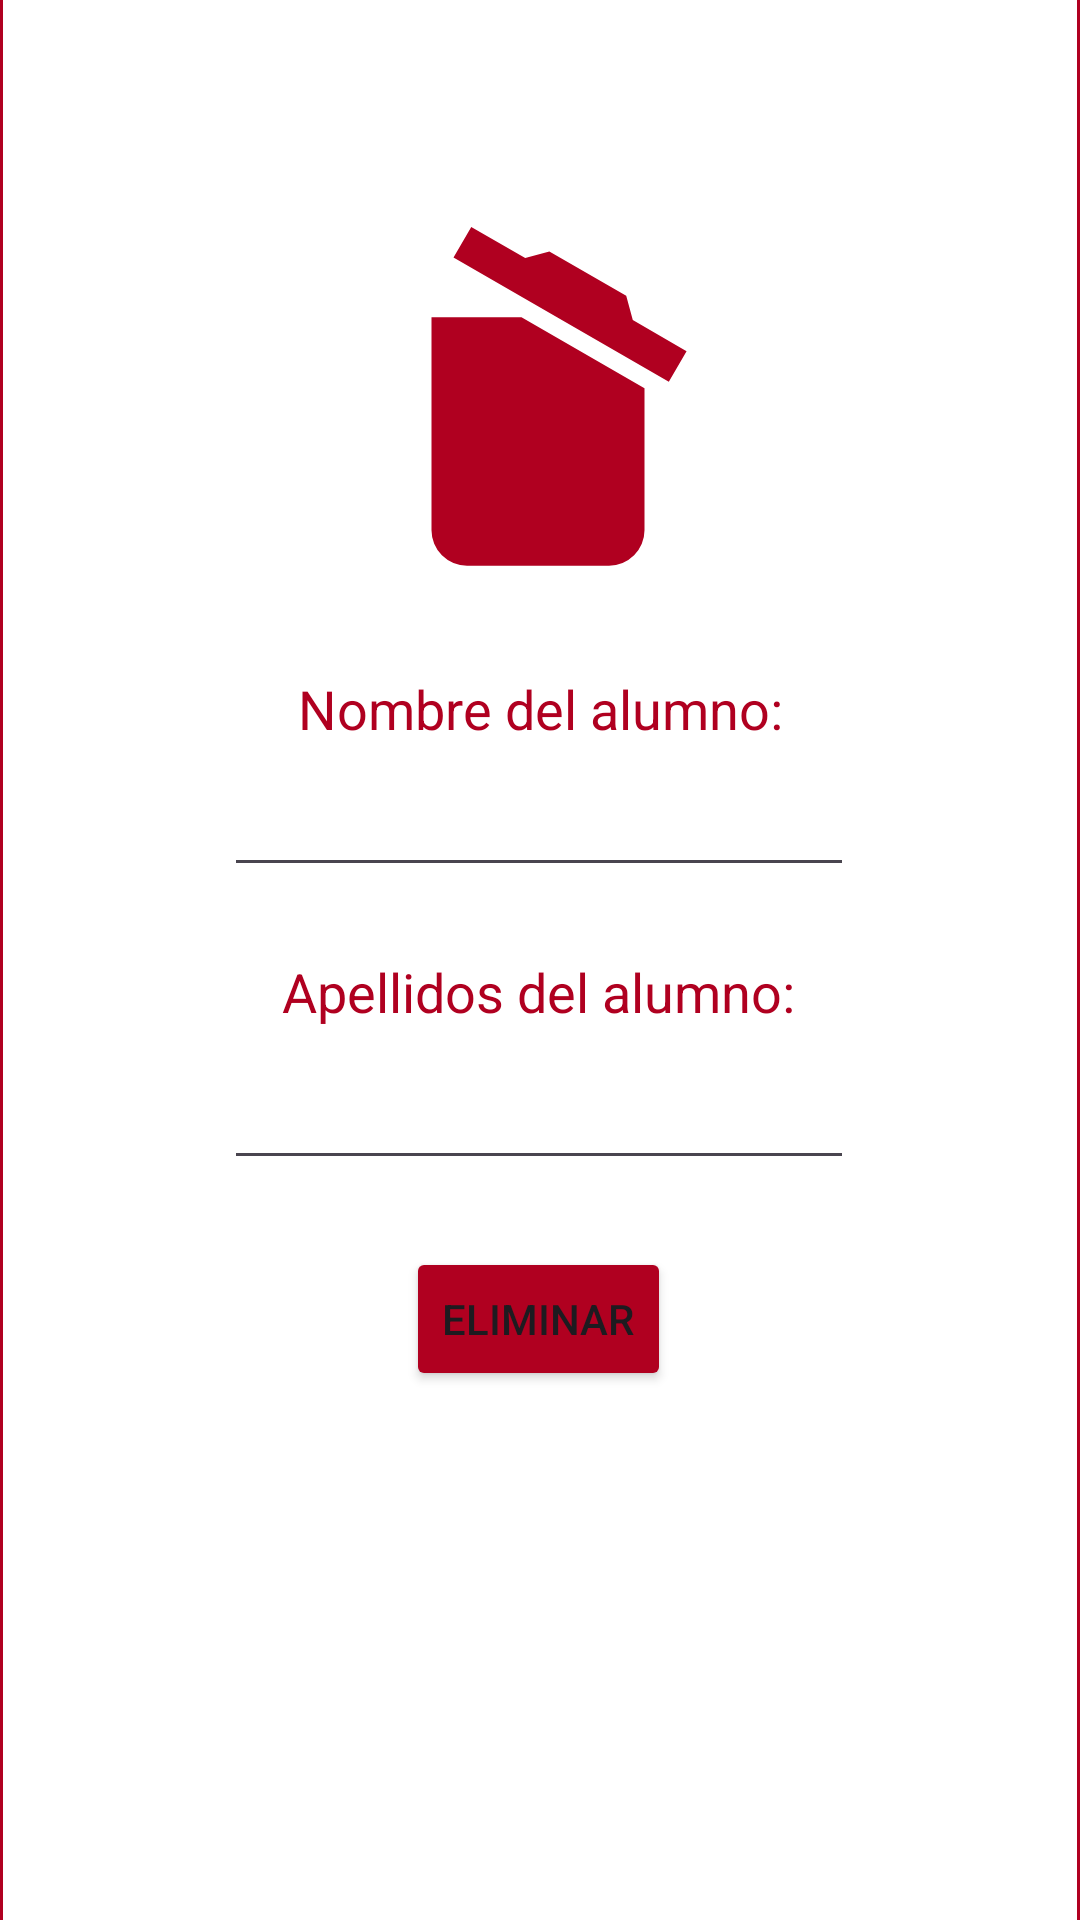

Screen size 1080×1920. Icon name, then its center in pixels as (x,y):
delete empty: (559,396)
